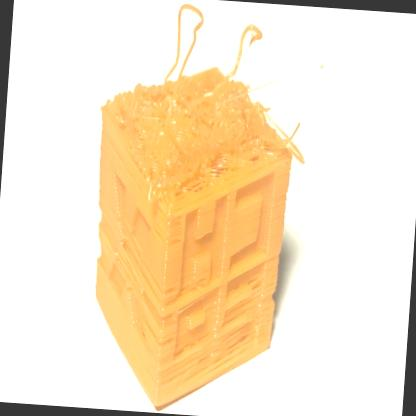fail: (100, 1, 317, 203)
